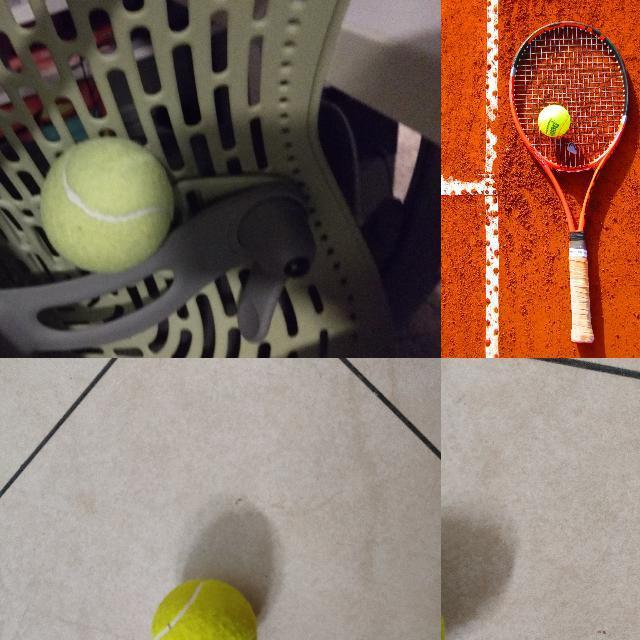tennis-ball: (39, 136, 175, 276), (150, 578, 258, 639), (538, 105, 570, 138)
